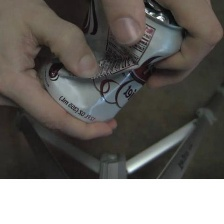can: (33, 0, 184, 130)
